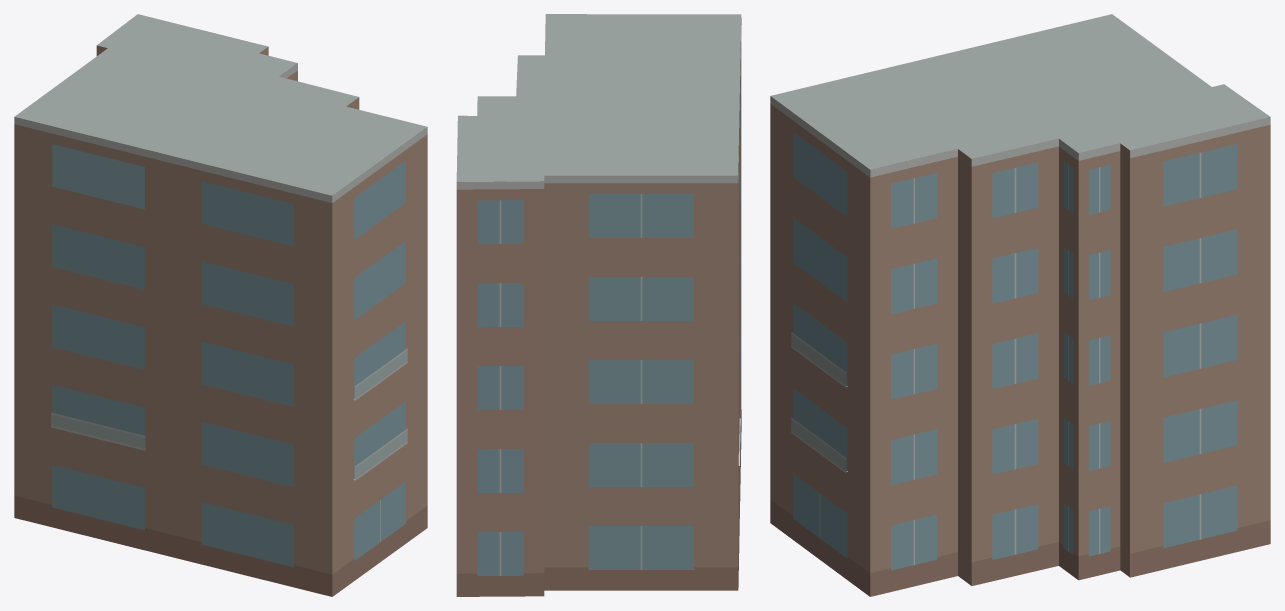
Rendered from survey-upis-32725791.glb.
3 renders of one model, left to right at view 1: azimuth 30°, elevation 25°; view 2: azimuth 150°, elevation 25°; view 3: azimuth 270°, elevation 25°, orthographic. The views are drawn at different scales.
Visible parts, largest first — view 1: survey-upis-32725791.tmp; view 2: survey-upis-32725791.tmp; view 3: survey-upis-32725791.tmp.
Part boxes in pixels (left/top/right/bottom): survey-upis-32725791.tmp: left=14, top=14, right=427, bottom=596; survey-upis-32725791.tmp: left=456, top=14, right=741, bottom=596; survey-upis-32725791.tmp: left=770, top=14, right=1270, bottom=596.
Size of the model in its own units: 10.49 by 13.4 by 14.24.
